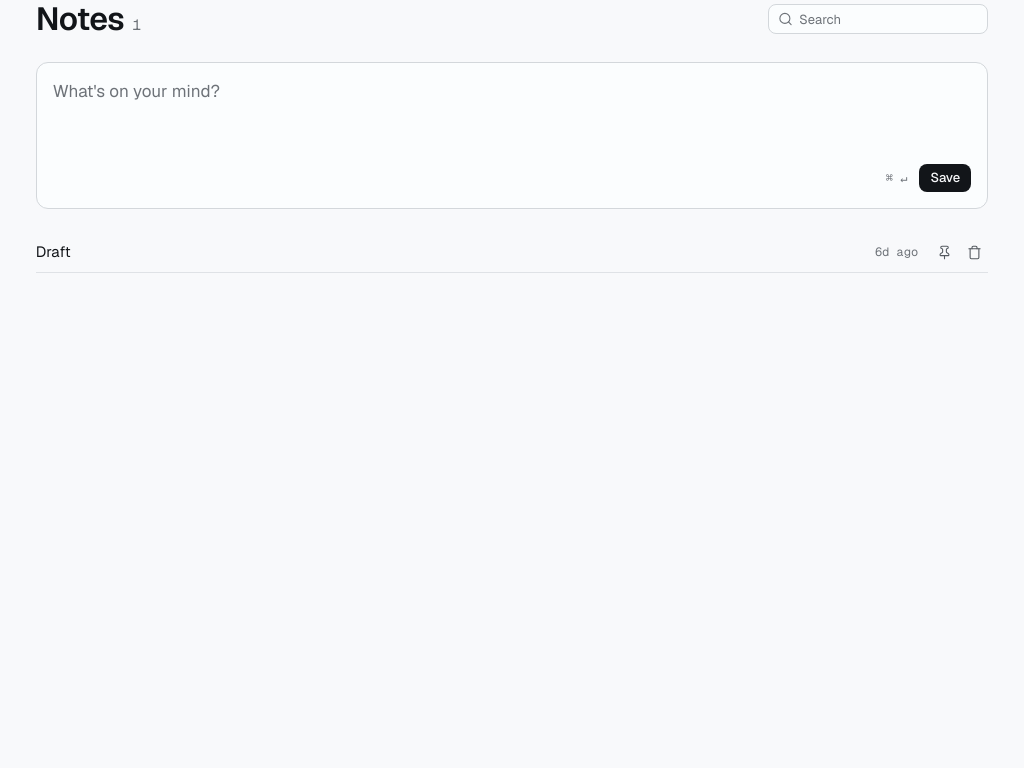
Test case: NotesBoard › a failed autosave shows "Couldn't save" in the dialog
Step 1. Click the button "Draft" → [53, 252], box [36,233,863,272]
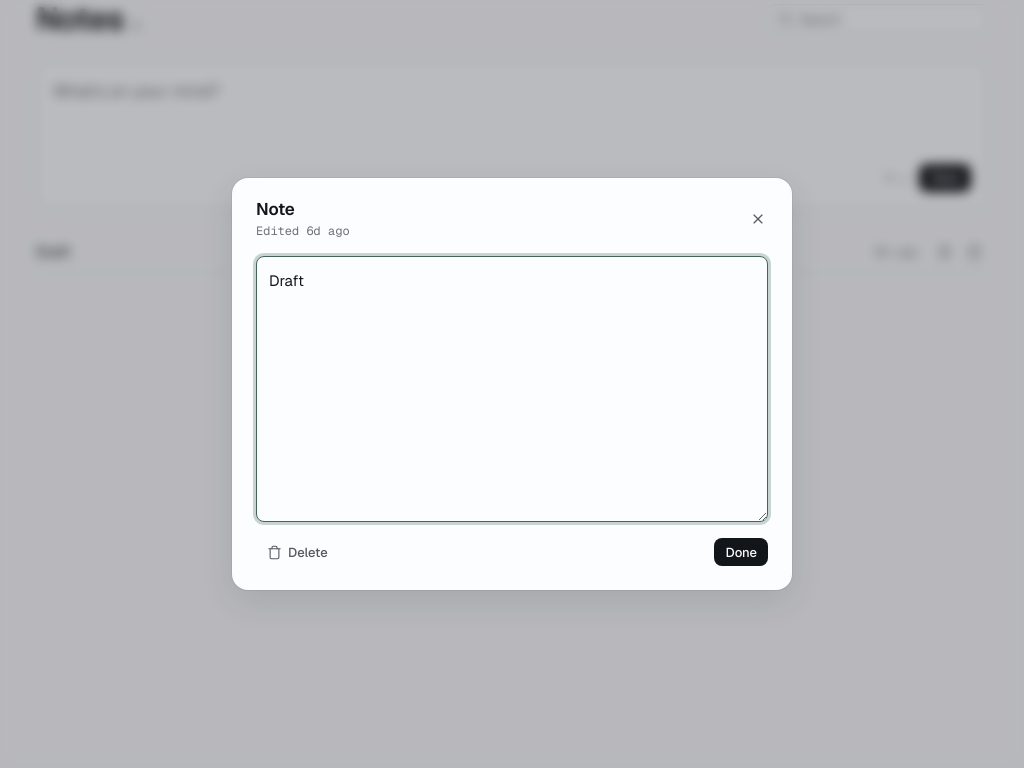
Step 2. Replace the text in the text box named "Note text" with "Draft v2" → [512, 389], box [256,256,768,522]
Wait 600 ms
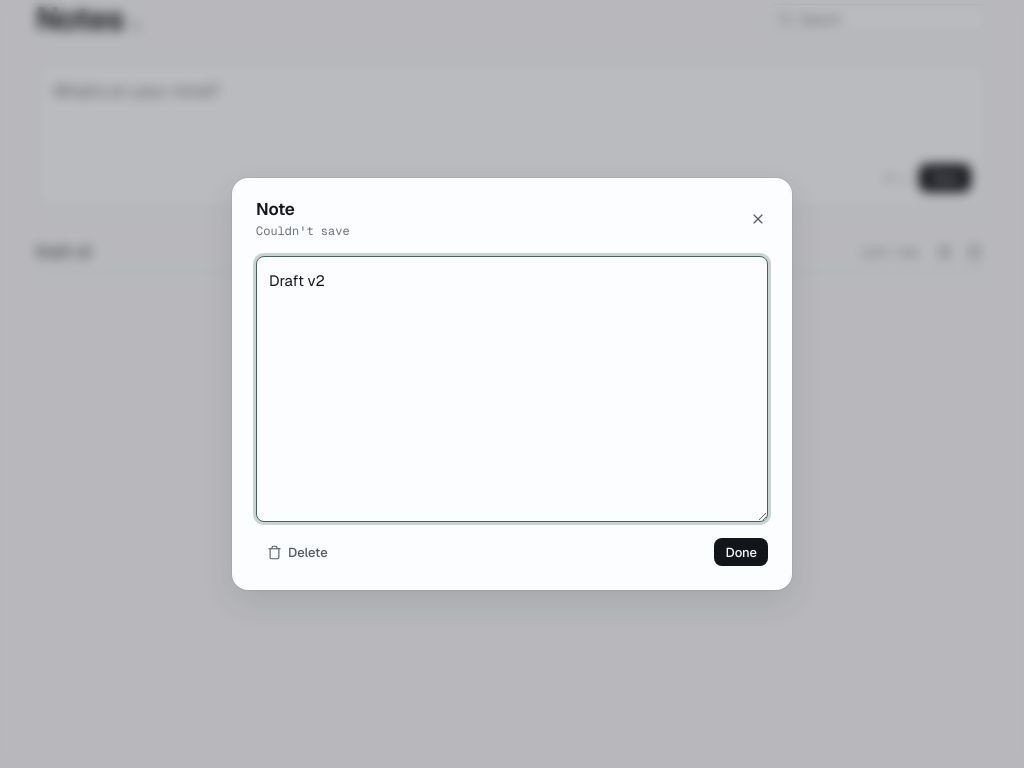
Expected: the text "Couldn't save" is shown, [256,222,350,240]
